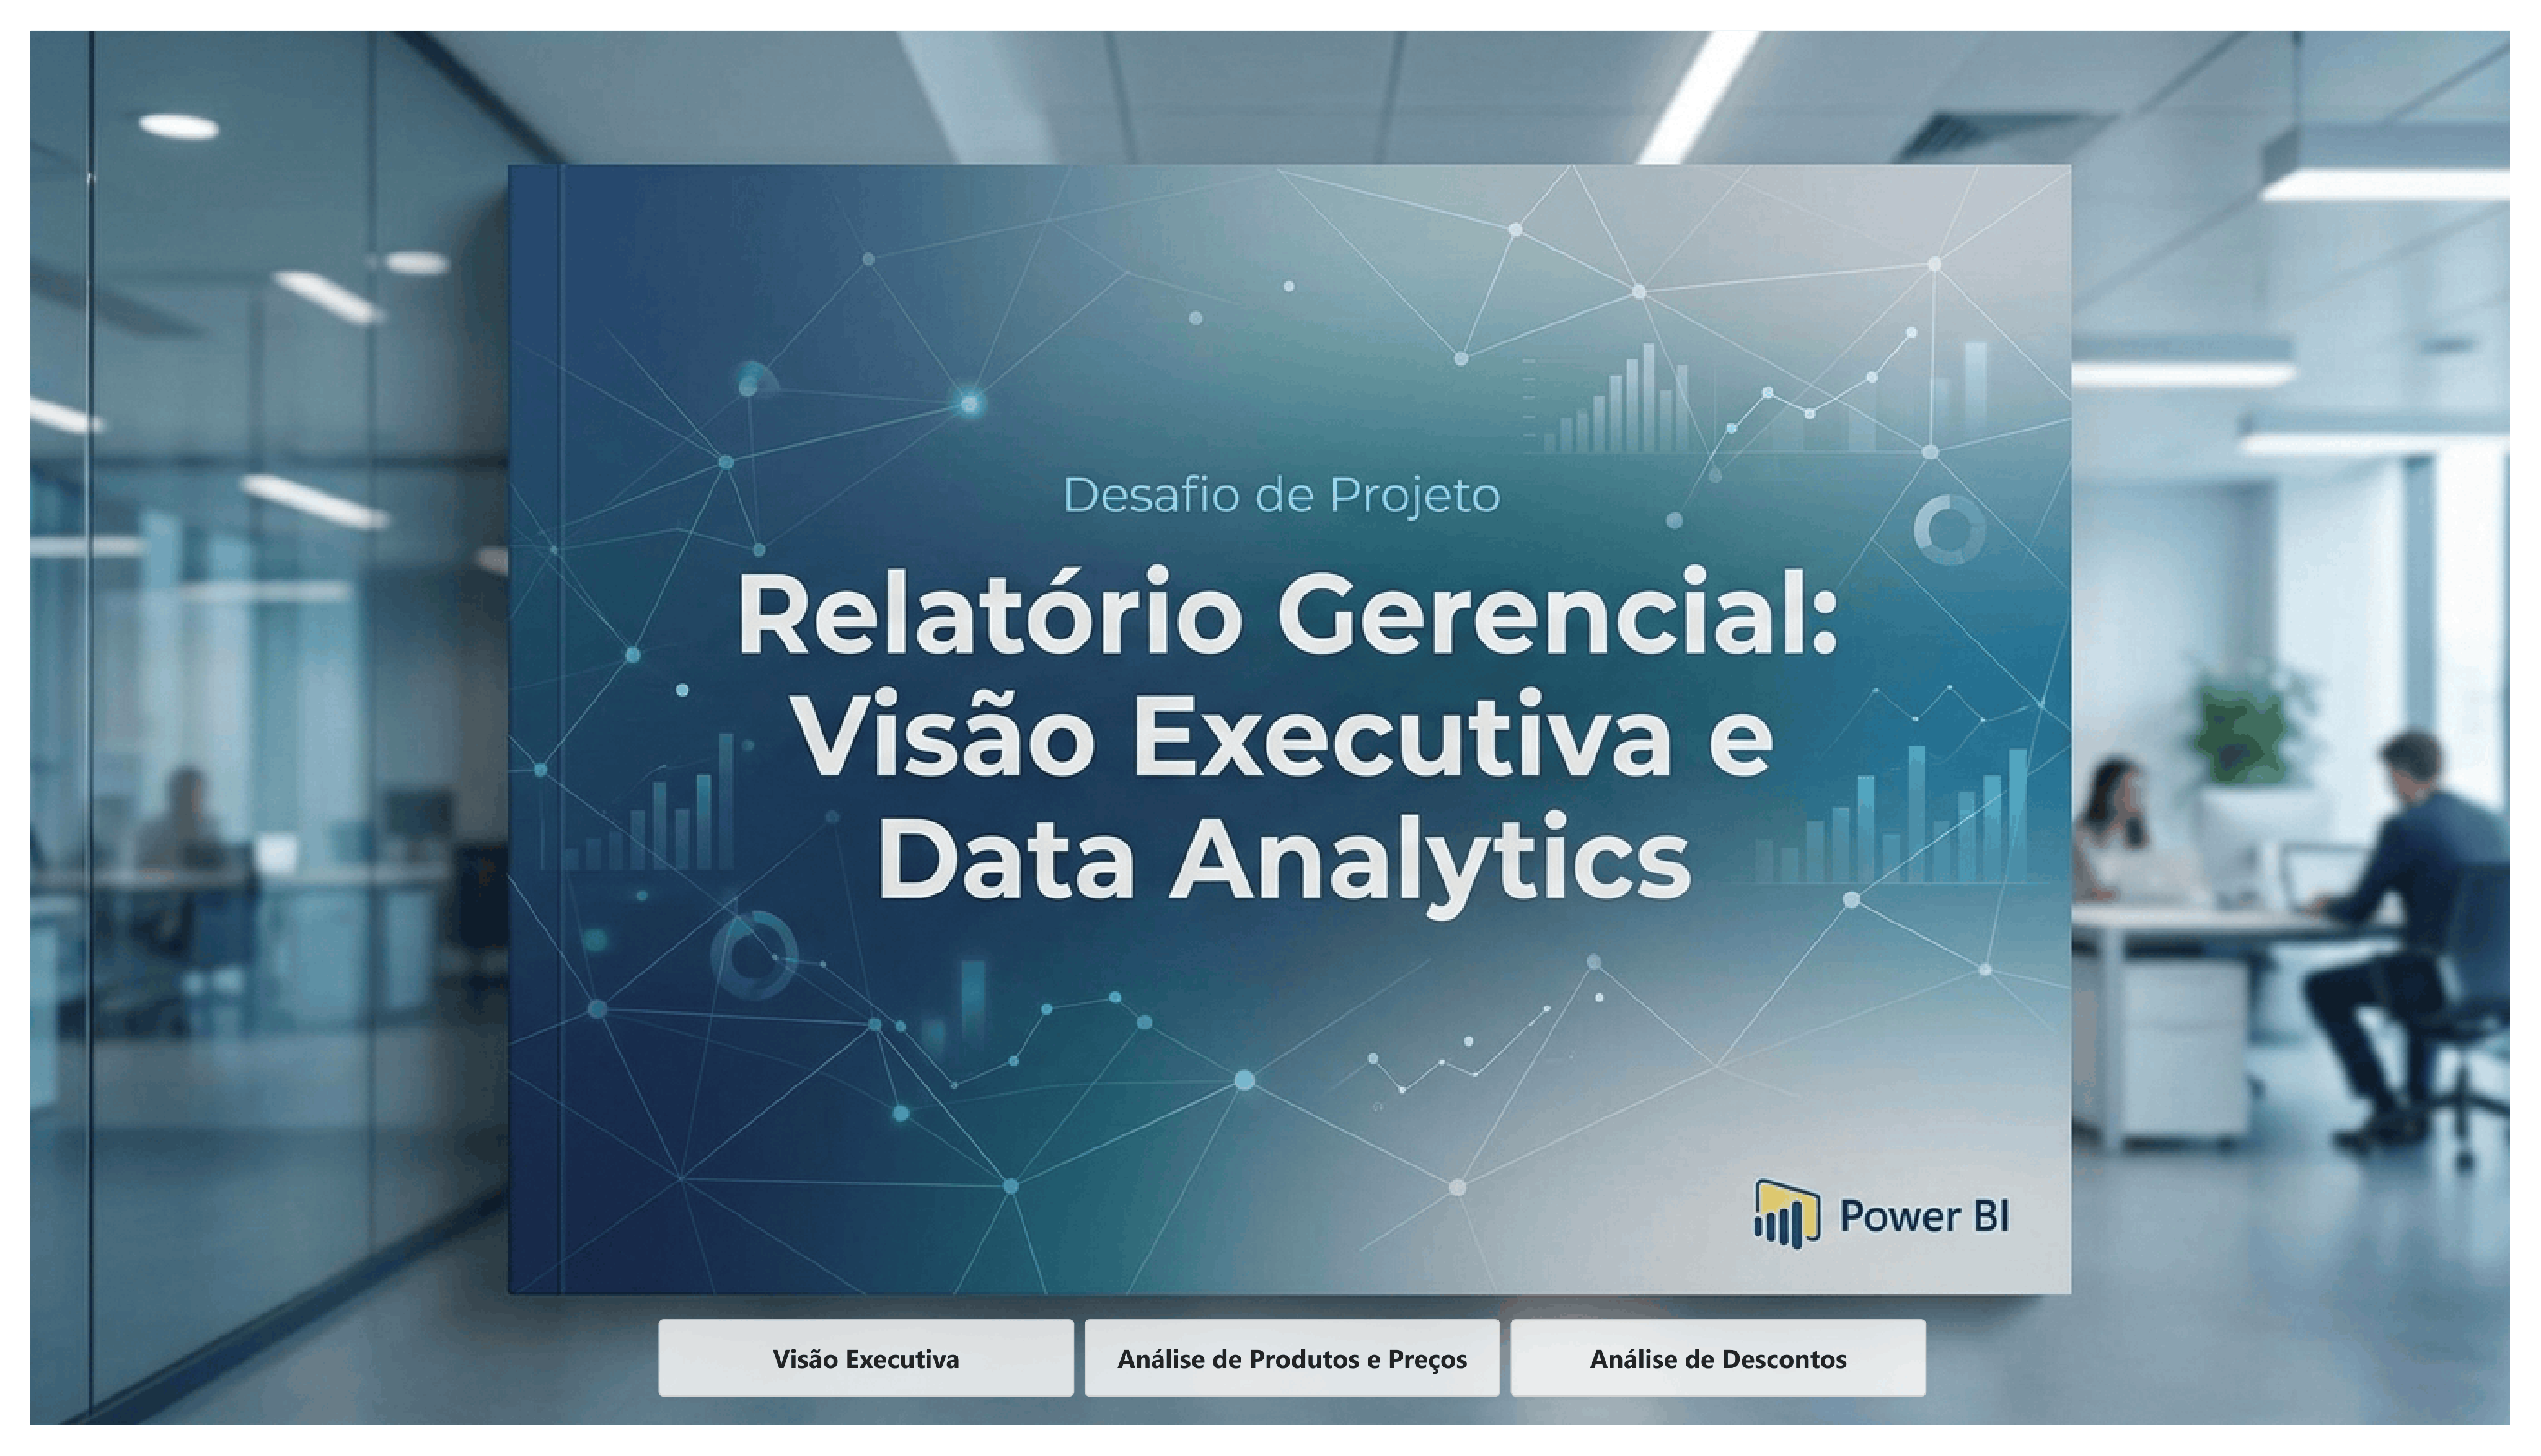

The dashboard page shown, as its layout file describes it:
{"tool":"powerbi","page":{"name":"Home","canvas":[1920,1080],"ordinal":0},"visuals":[{"type":"image","box":[0,0,1920,1080],"z":0},{"type":"pageNavigator","box":[486.1,998.5,984,60],"z":1000}]}

Visuals, with their boxes on the page's 1920x1080 design canvas (x1, y1, x2, y2). These are canvas units, not pixel positions in the 2541x1456 screenshot, which may show the page scaled, cropped or inside an application window:
image: x1=0 y1=0 x2=1920 y2=1080
pageNavigator: x1=486 y1=998 x2=1470 y2=1058
